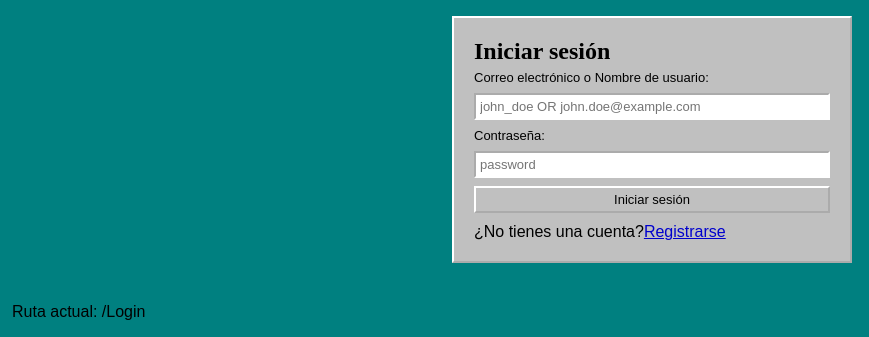
Test: Pruebas de Login › permite iniciar sesión con credenciales correctas
Step 1. Type "Juan@gmail.com" into the field labelled "Correo electrónico o Nombre de usuario:" → x=652, y=106, box [474,93,830,120]
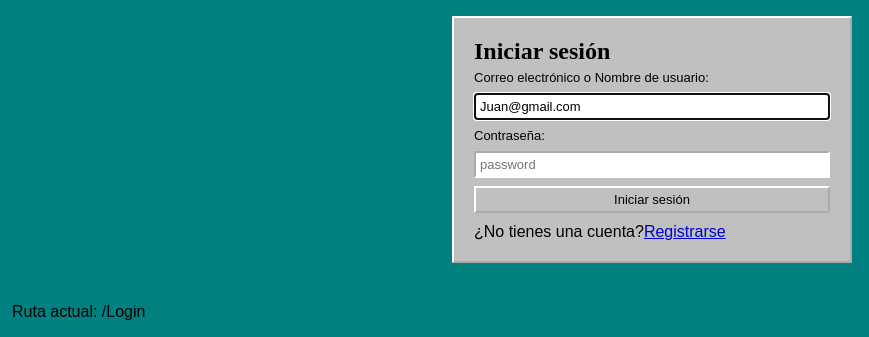
Step 2. Type "Juan.123" into the password field labelled "Contraseña:" → x=652, y=164, box [474,151,830,178]
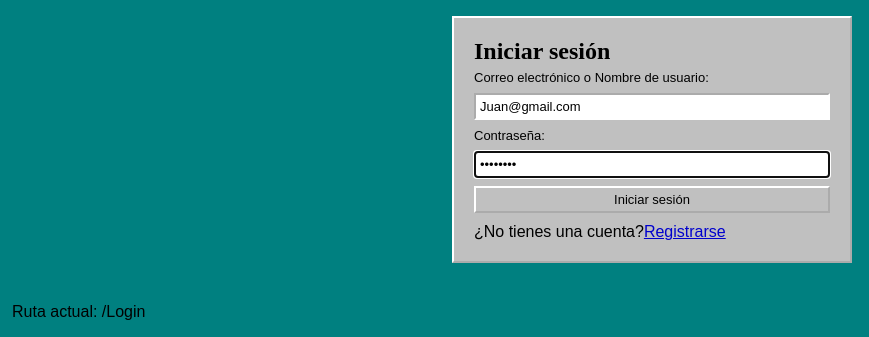
Step 3. Click the button "Iniciar sesión" → x=652, y=200, box [474,186,830,213]
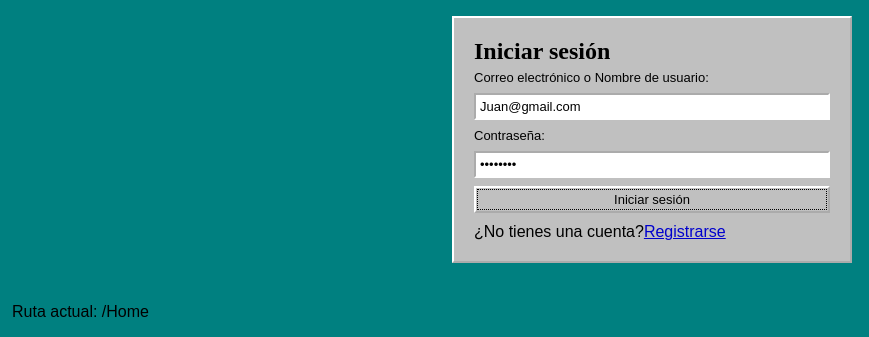
Expected: the text "Ruta actual: /Home" is shown, [12,303,149,320]
